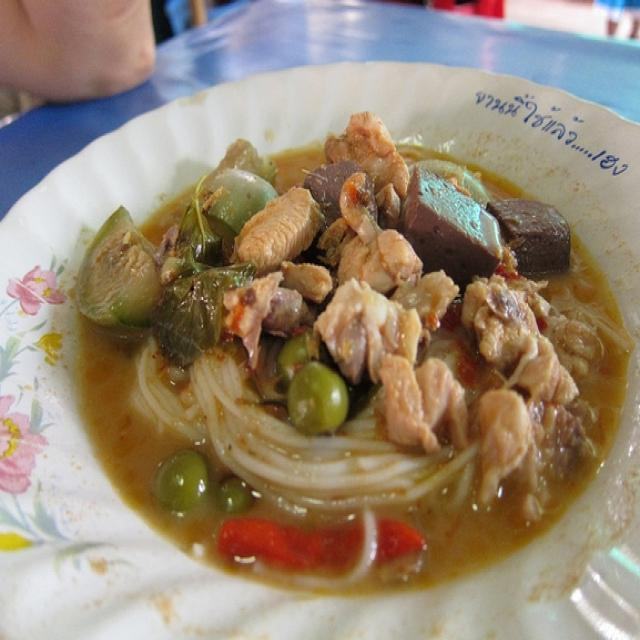面条主食: (18, 34, 619, 634)
